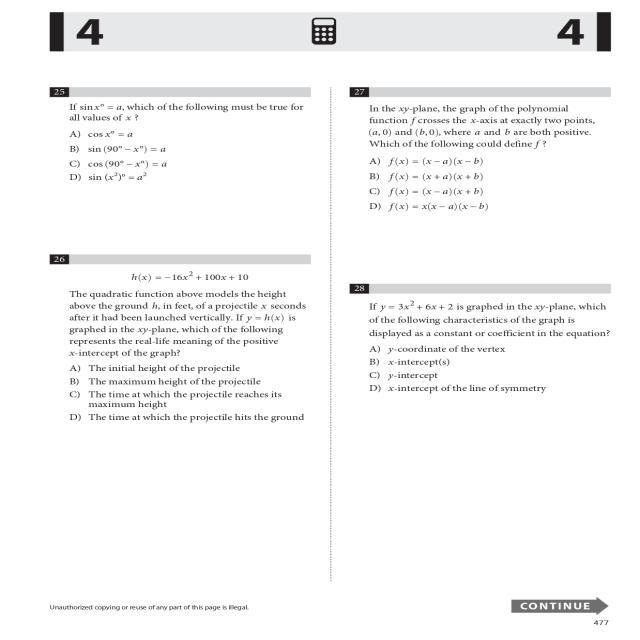Answer_Block: (340, 344, 618, 578), (36, 362, 324, 580), (36, 125, 324, 197), (340, 150, 618, 216)
Question_Answer_Block: (36, 250, 324, 580), (340, 281, 618, 577), (340, 80, 618, 216), (36, 78, 324, 197)
Question_Block: (36, 250, 324, 362), (340, 79, 618, 148), (340, 281, 618, 344), (36, 78, 324, 124)
Question_Paper_Area: (36, 78, 324, 580), (340, 79, 618, 577)
